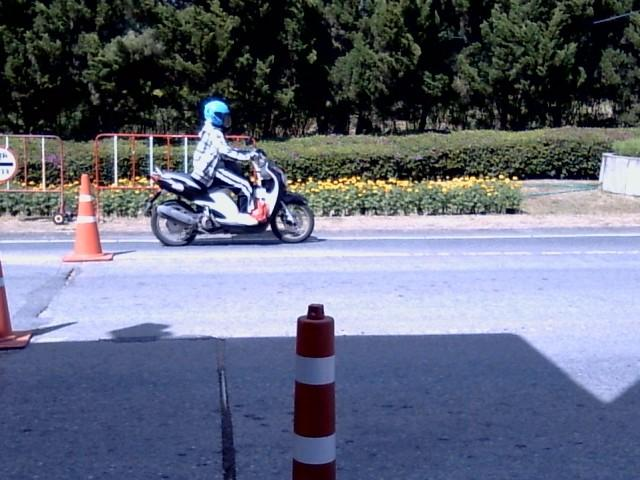helmet: (204, 97, 231, 128)
motor: (145, 159, 313, 245)
person: (193, 99, 260, 213)
